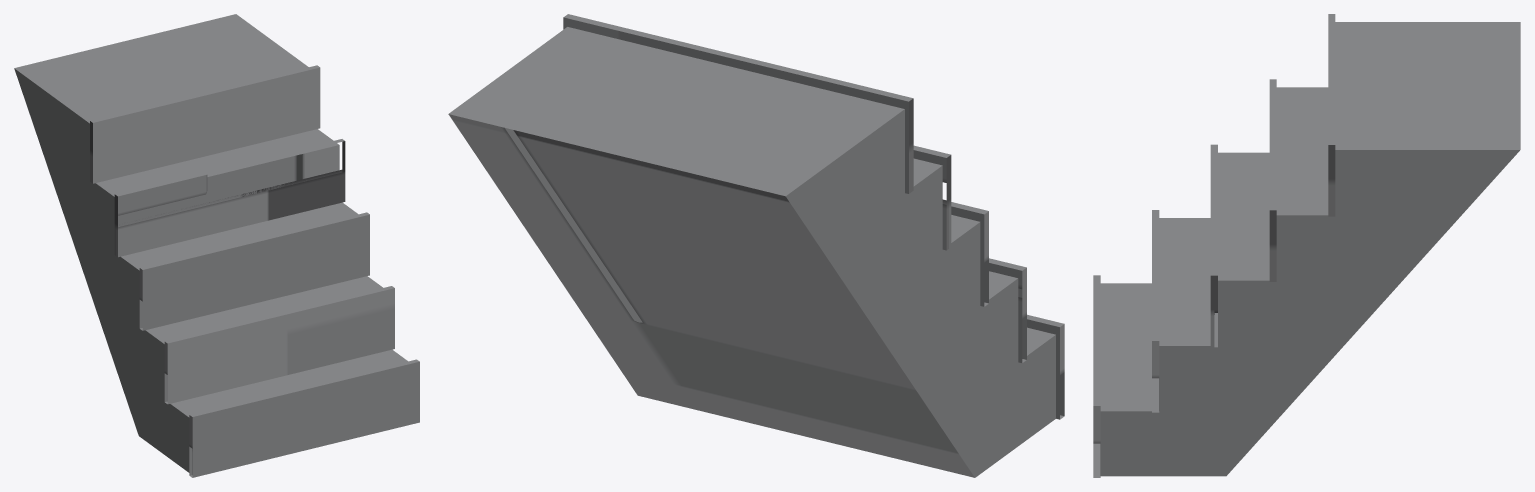
The picture shows the model from 3 angles, left to right: view 1: azimuth 30°, elevation 25°; view 2: azimuth 150°, elevation 25°; view 3: azimuth 270°, elevation 25°; orthographic projection. The views are drawn at different scales.
Size of the model in its own units: 0.86 by 1.02 by 1.19.
